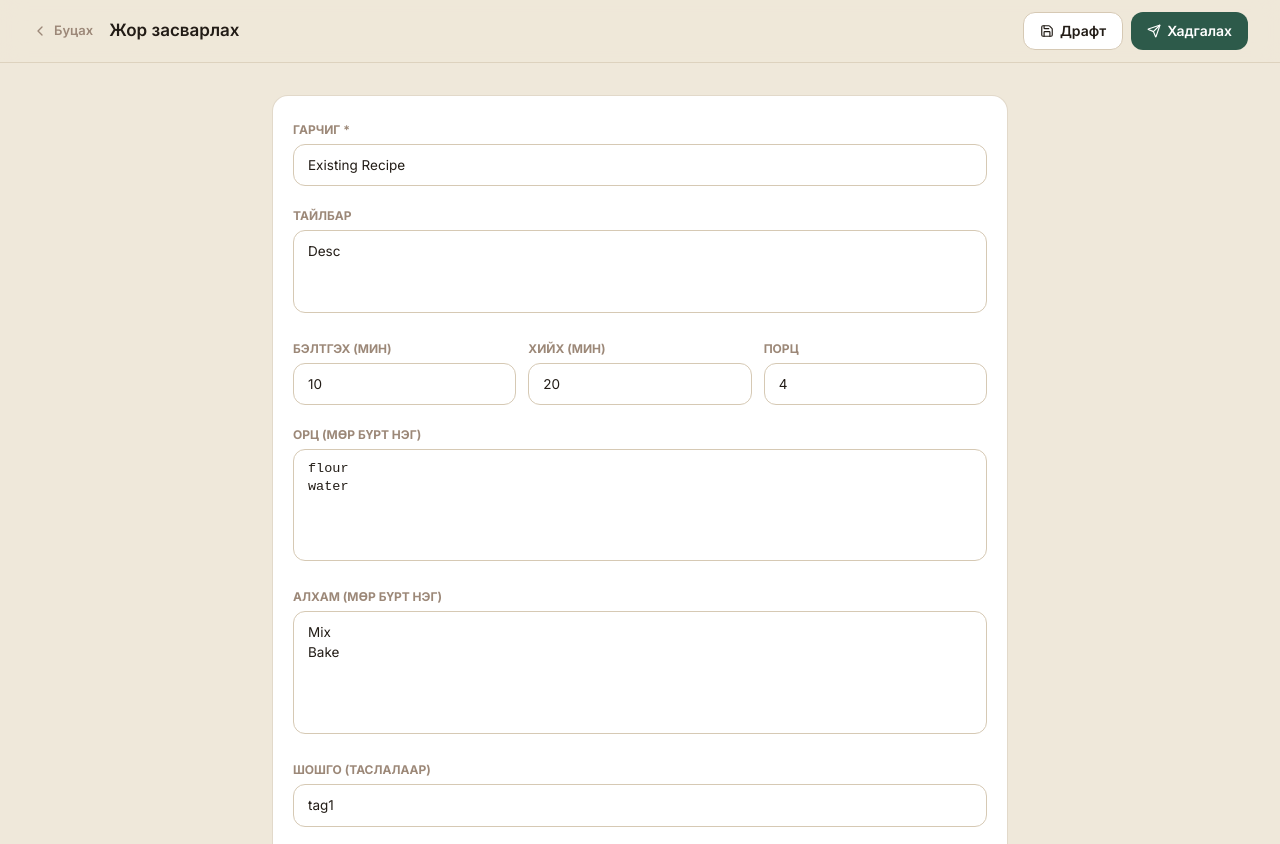
Scenario: EditRecipePage — update recipe › shows error when ingredients are cleared on publish
This screenshot has width=1280, height=844.
Expected: the field showing "Existing Recipe" below "Гарчиг *" is shown, [293,144,987,186]
Clear the text box named "Орцууд" at [640, 505], box [293,449,987,561]
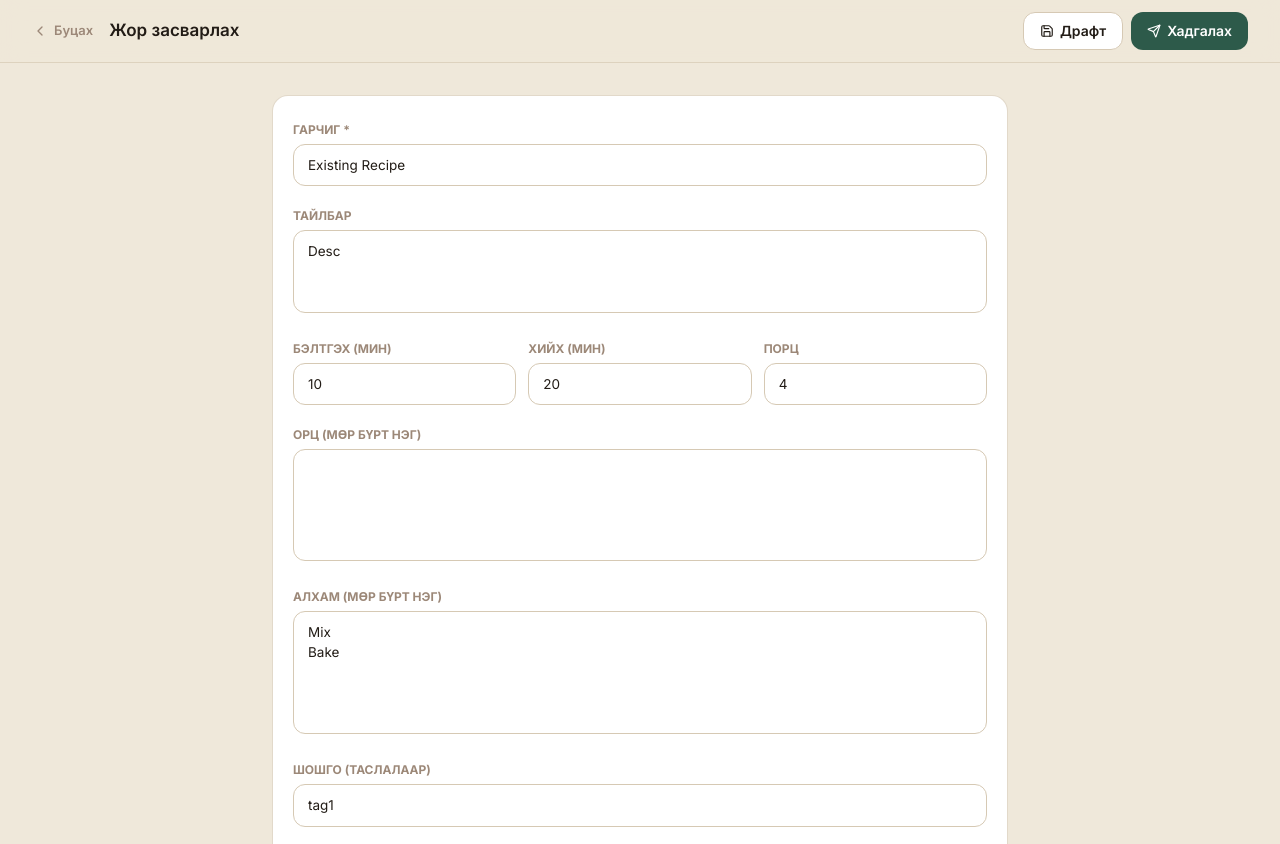
Click the button "Хадгалах" at [1190, 31], box [1131,12,1248,50]
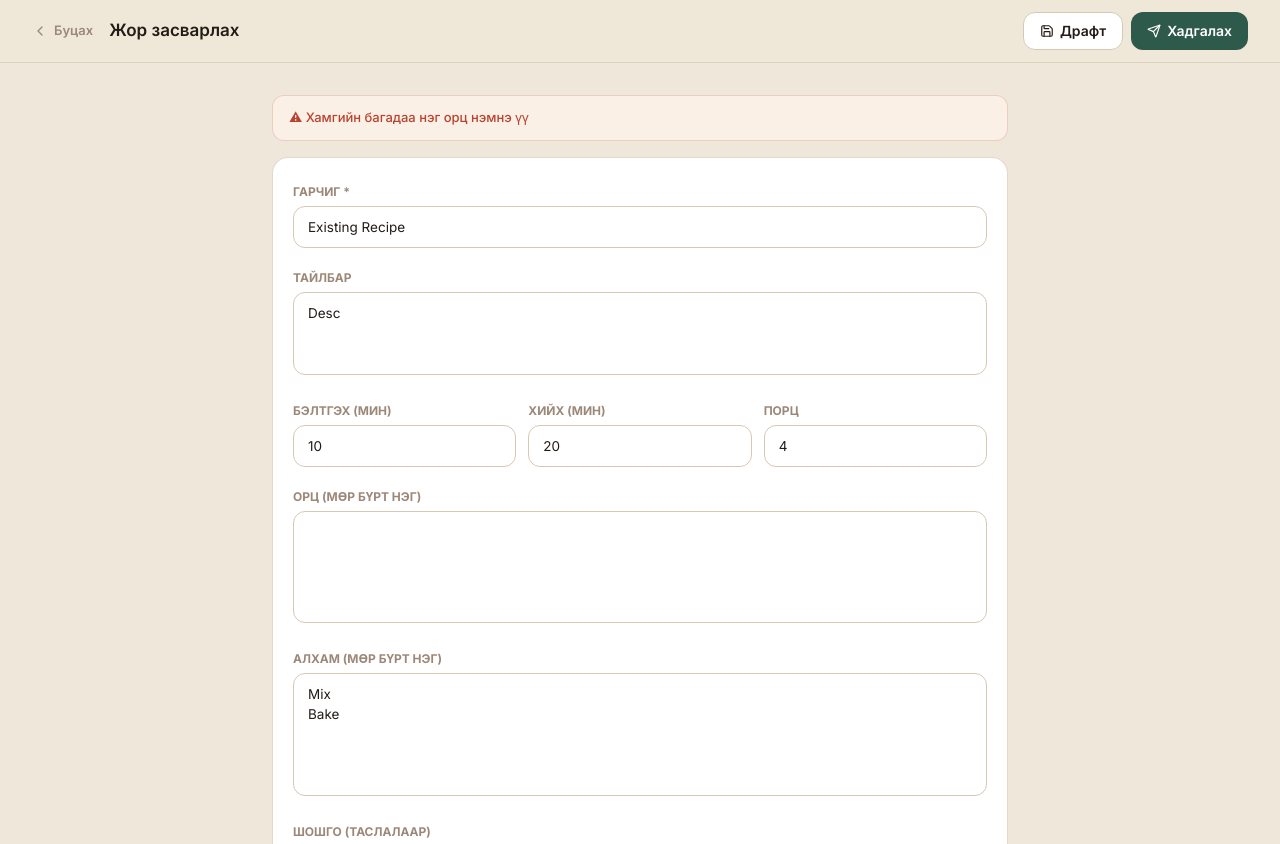
Expected: the text "⚠ Хамгийн багадаа нэг орц нэмнэ үү" is shown, [272,95,1008,140]
